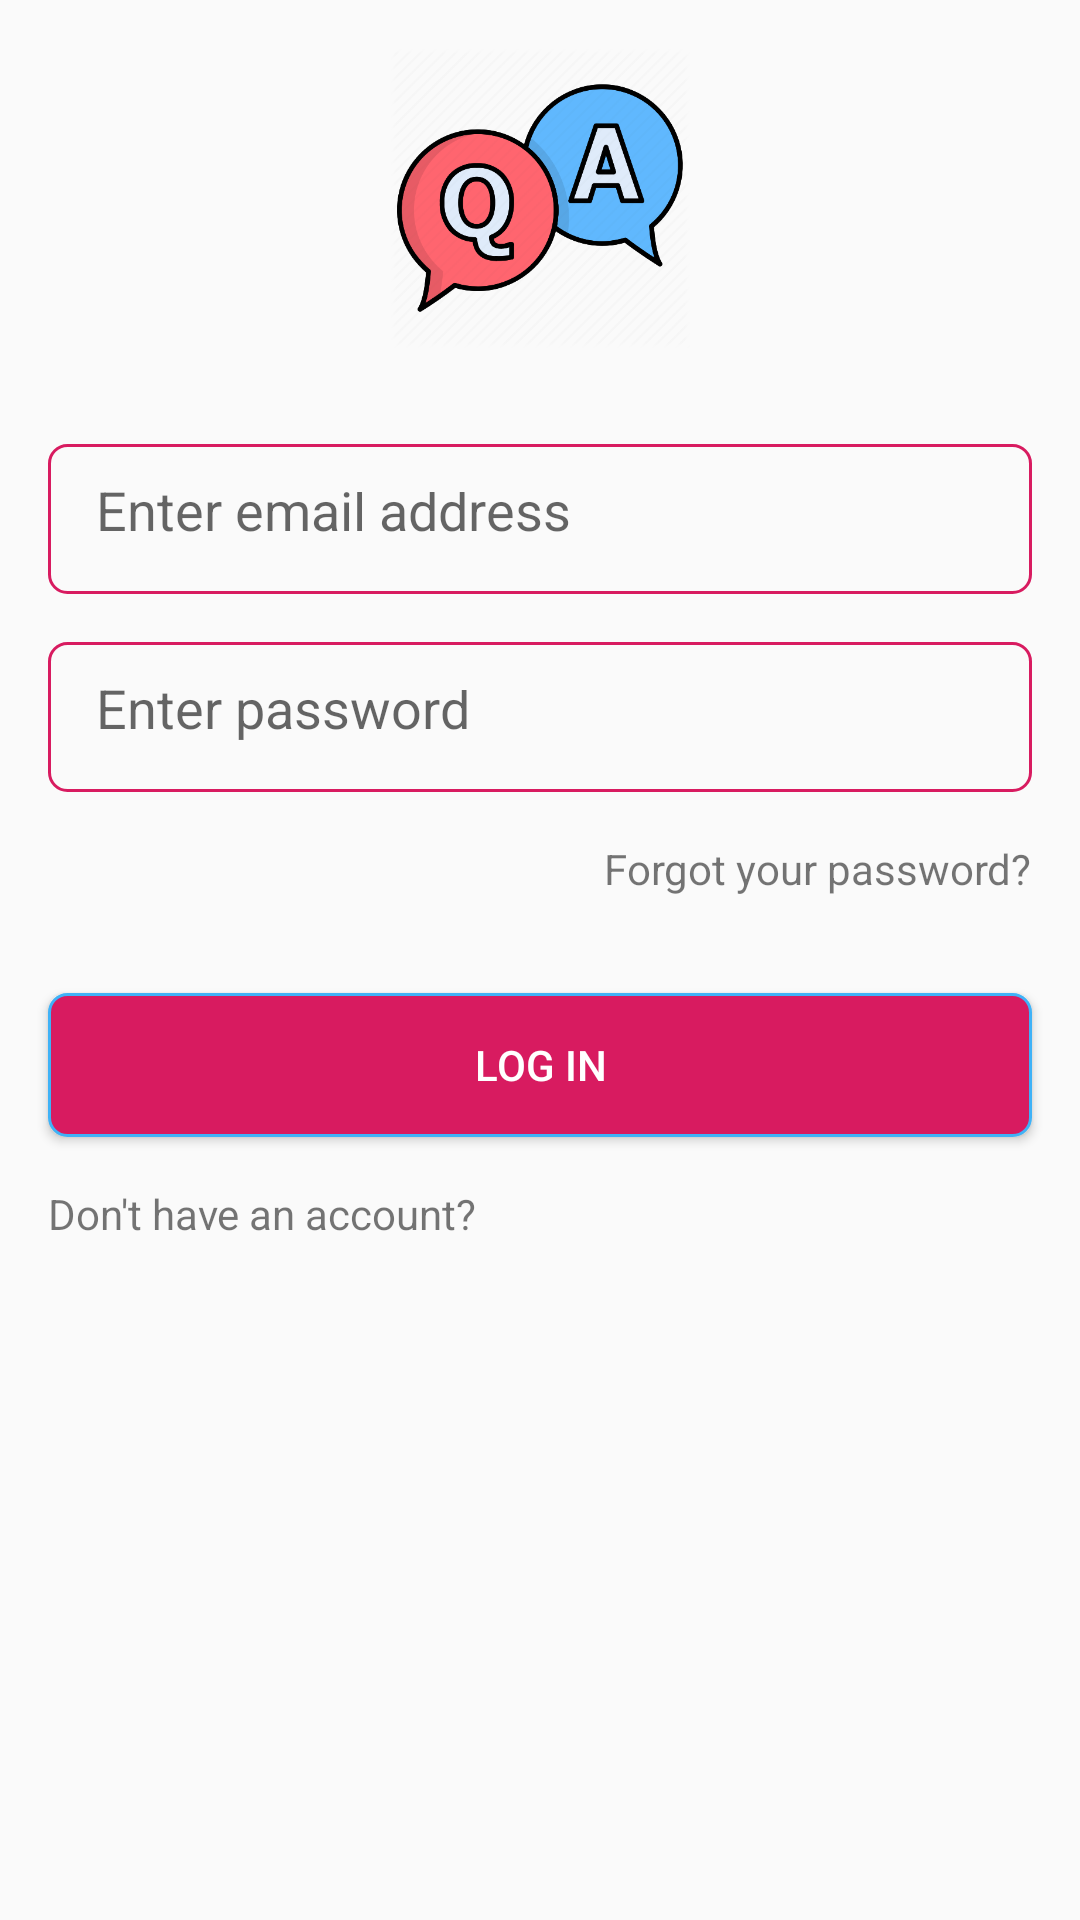

Icon click points for this 1080 x 1920 phone screenshot, format point (x, y):
qna: point (540, 198)
